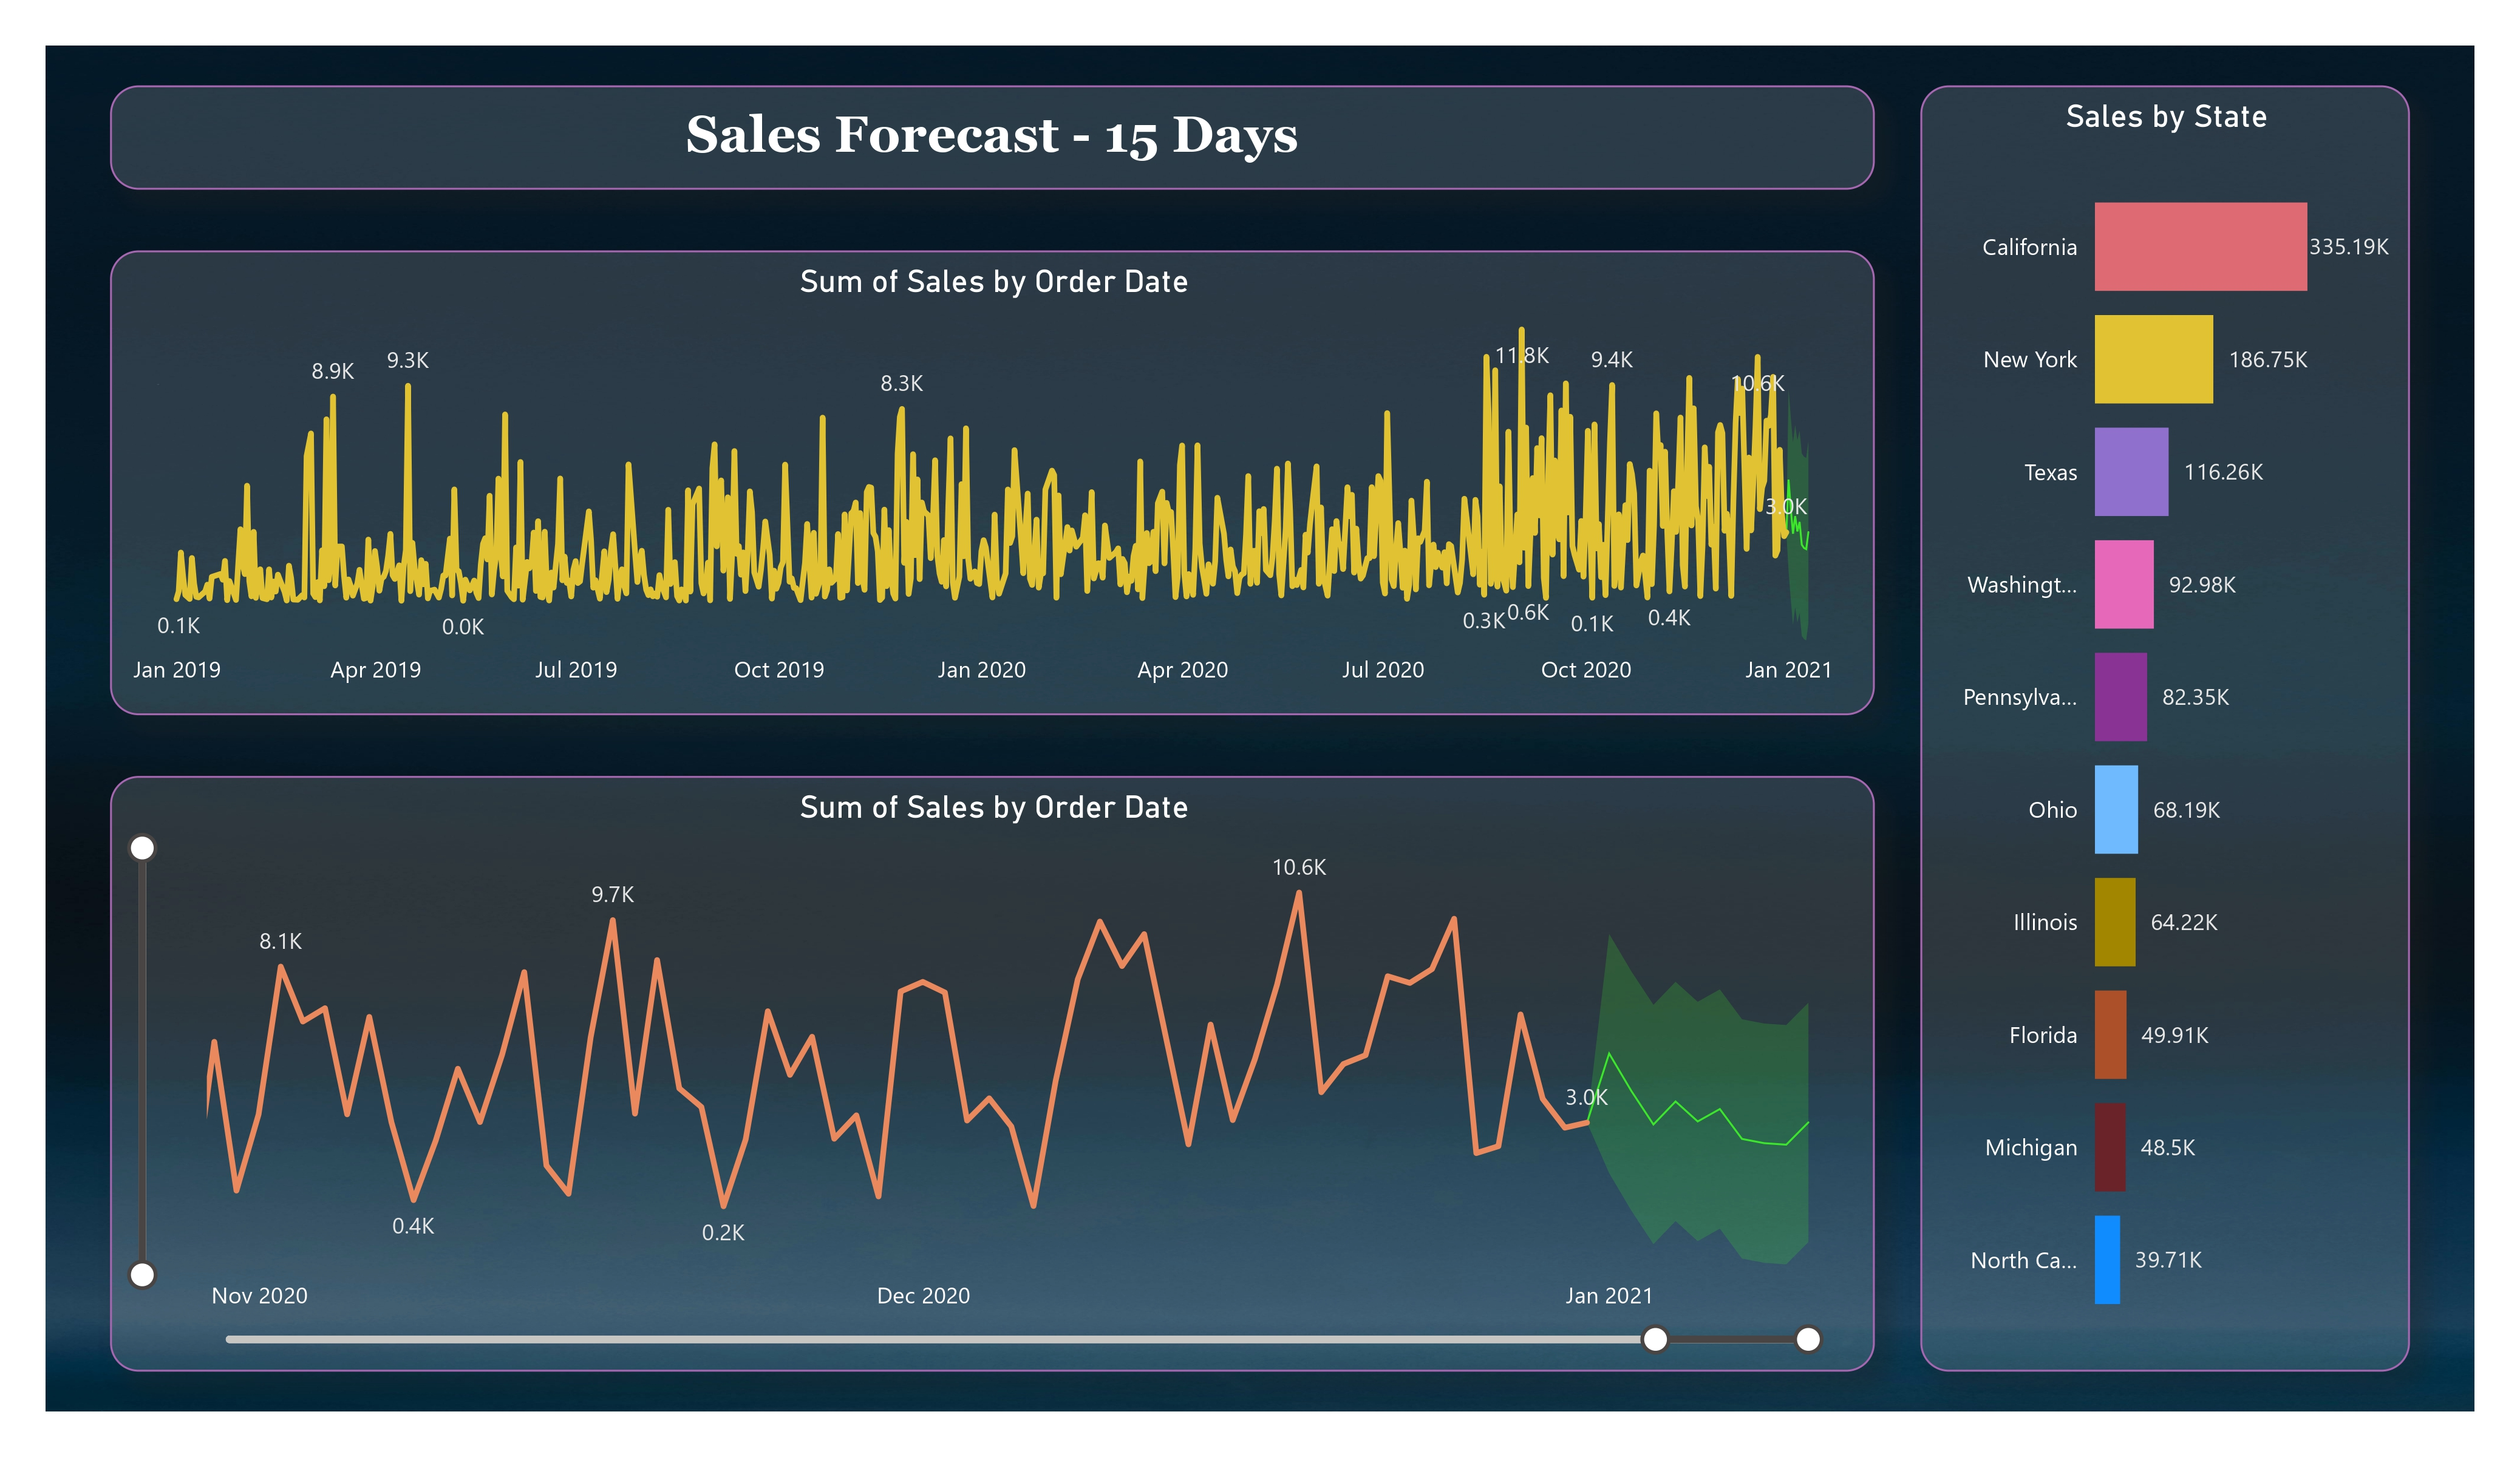

What the dashboard file says about the page in this screenshot:
{"tool":"powerbi","page":{"name":"Sales Forecasting","canvas":[1280,720],"ordinal":1},"visuals":[{"type":"lineChart","fields":{"Y":["Sum(SuperStore_Seles.Sales)"],"Category":["SuperStore_Seles.Order Date"]},"box":[33.7,385.5,930.4,313.8],"z":0},{"type":"lineChart","fields":{"Y":["Sum(SuperStore_Seles.Sales)"],"Category":["SuperStore_Seles.Order Date"]},"box":[33.7,108.1,930.4,245],"z":1000},{"type":"clusteredBarChart","title":"Sales by State","fields":{"Y":["Sum(SuperStore_Seles.Sales)"],"Category":["SuperStore_Seles.State"]},"box":[987.5,20.7,258.8,678.5],"z":2000},{"type":"textbox","box":[33.7,20.7,930.4,55.1],"z":3000}]}

Visuals, with their boxes in screenshot pixels (x1, y1, x2, y2):
lineChart - Sum(SuperStore_Seles.Sales) x SuperStore_Seles.Order Date: l=35, t=776, r=1908, b=1407
lineChart - Sum(SuperStore_Seles.Sales) x SuperStore_Seles.Order Date: l=35, t=217, r=1908, b=710
"Sales by State" clusteredBarChart: l=1955, t=42, r=2476, b=1407
textbox: l=35, t=42, r=1908, b=152
